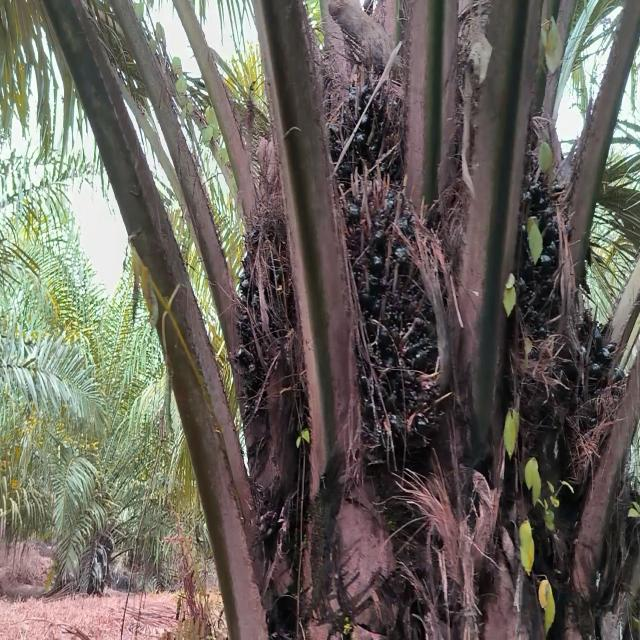palm-oil: (335, 168, 447, 484), (231, 202, 311, 479), (526, 289, 617, 524), (316, 66, 405, 276), (501, 153, 563, 403)
